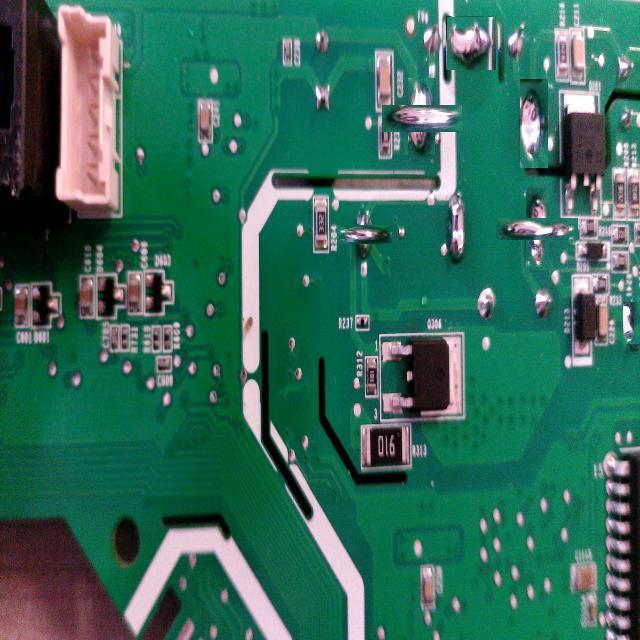Short_circuit: (394, 91, 448, 146), (511, 203, 564, 255), (446, 16, 496, 70), (520, 79, 548, 168), (443, 188, 468, 266), (346, 216, 383, 253), (623, 302, 640, 344)
